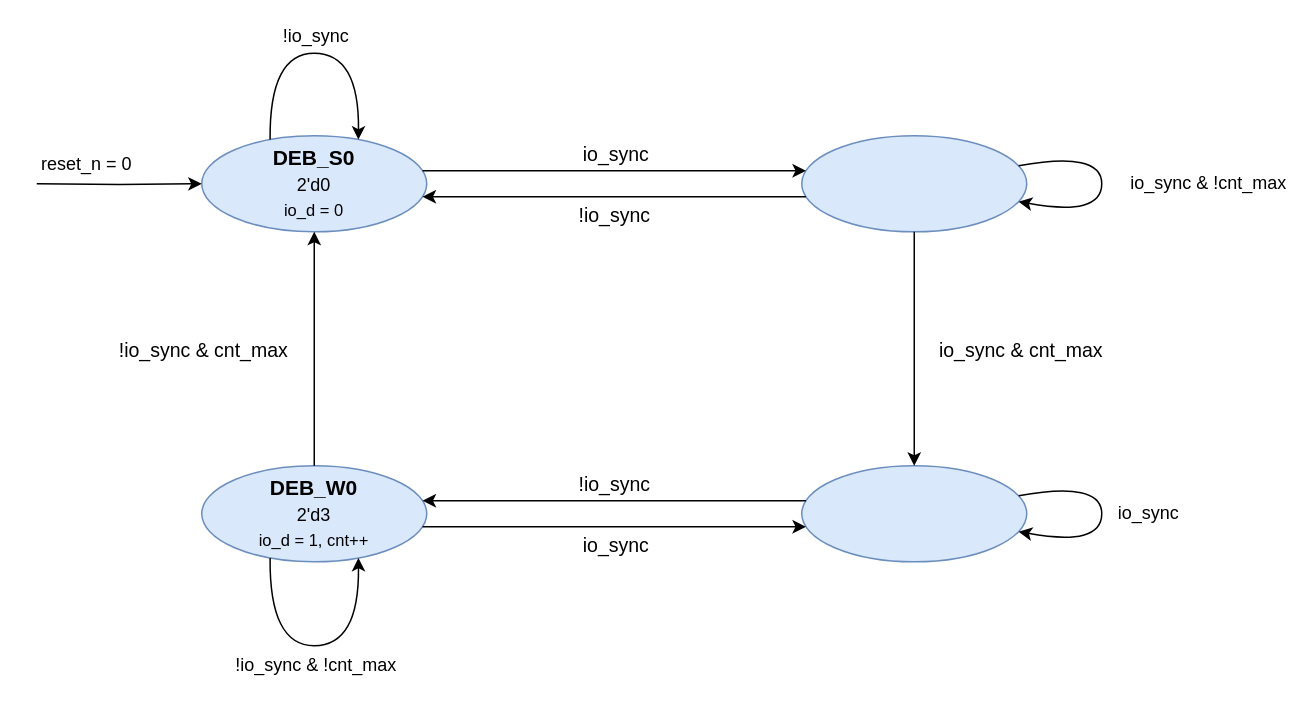
Some shapes in this 1311 by 701 pixel diagram are drawn without their labels. Each missing label, with the centre of its shape:
DEB_S1 2'd2 io_d = 1: pixel 913 513
DEB_W1 2'd1 io_d = 0, cnt++: pixel 913 183
